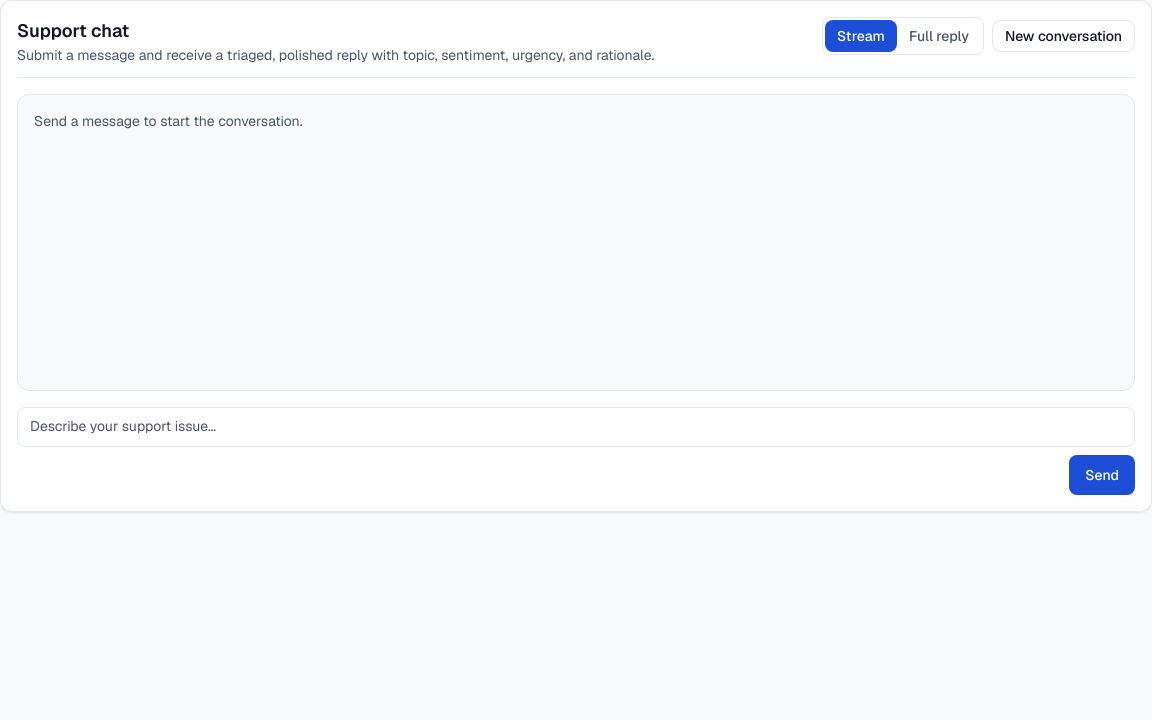
Test: ChatPanel › preserves the draft and offers retry after a stream failure
Type "Please retry me" into the text box with placeholder "Describe your support issue…".
click(576, 427); type("Please retry me")  # box [17,407,1135,447]
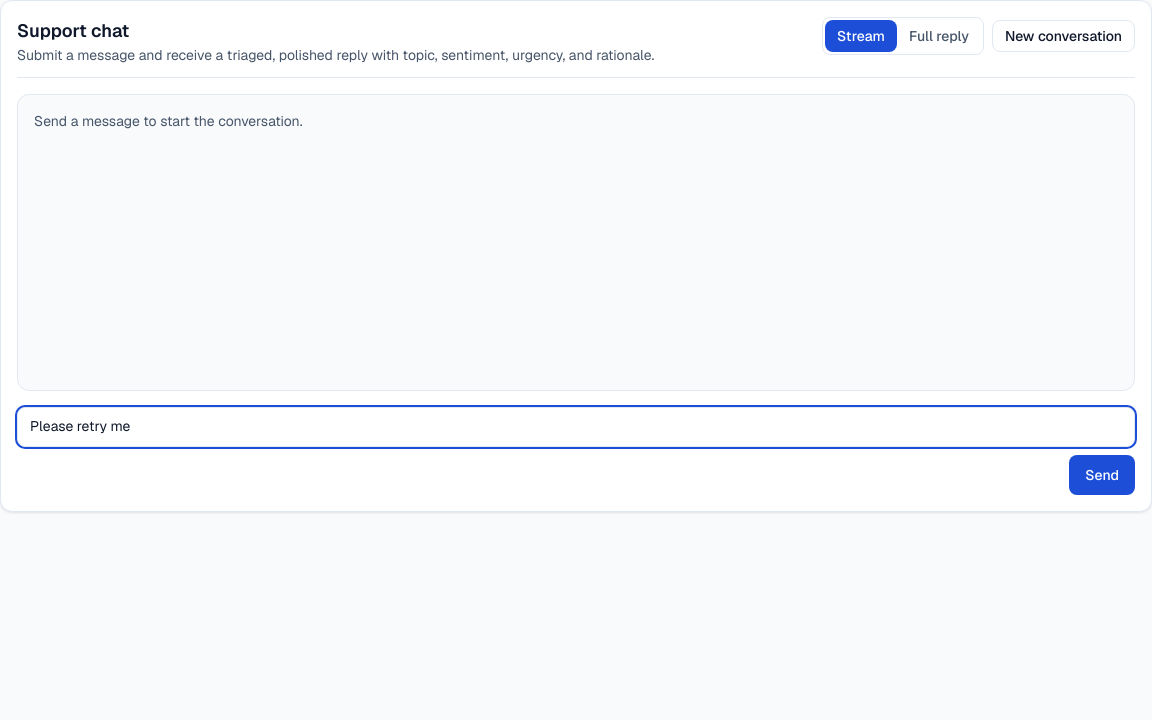
Click the button "Send".
click(1102, 475)  # box [1069,455,1135,495]
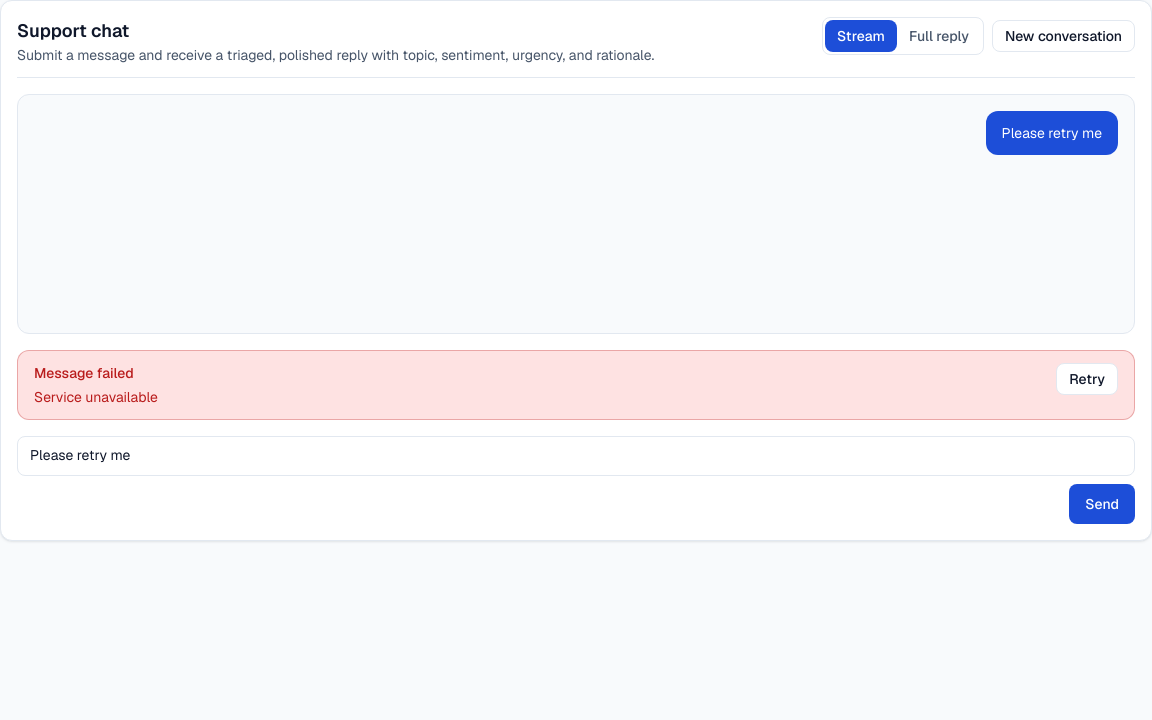
Check: the text "Service unavailable" is shown, box [34,388,158,406]
Click the button "Retry".
click(1087, 379)  # box [1056,363,1118,395]
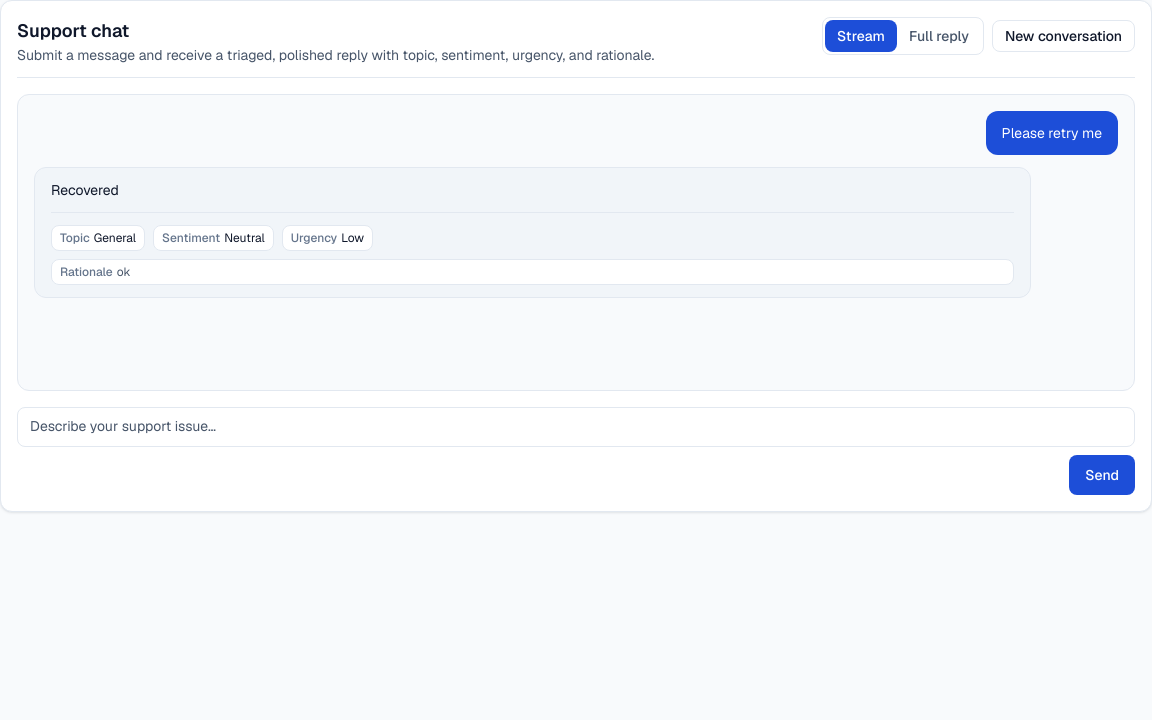
Check: the text "Please retry me" is shown once, box [1002,123,1102,143]
Check: the text "Recovered" is shown, box [51,181,119,199]
